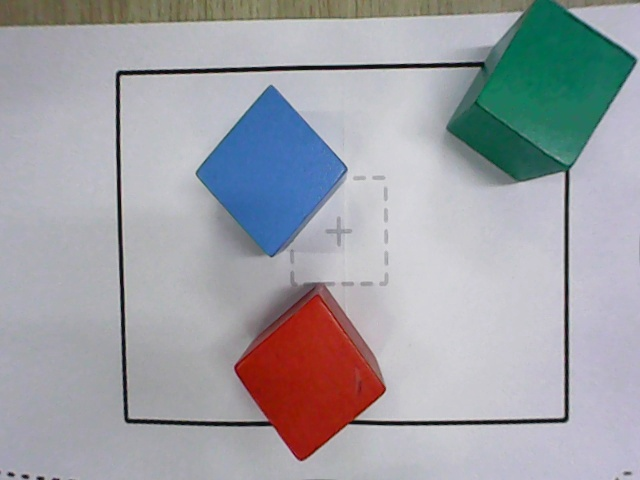upside of big cube: (474, 0, 637, 169), (194, 84, 349, 257), (234, 295, 388, 462)
